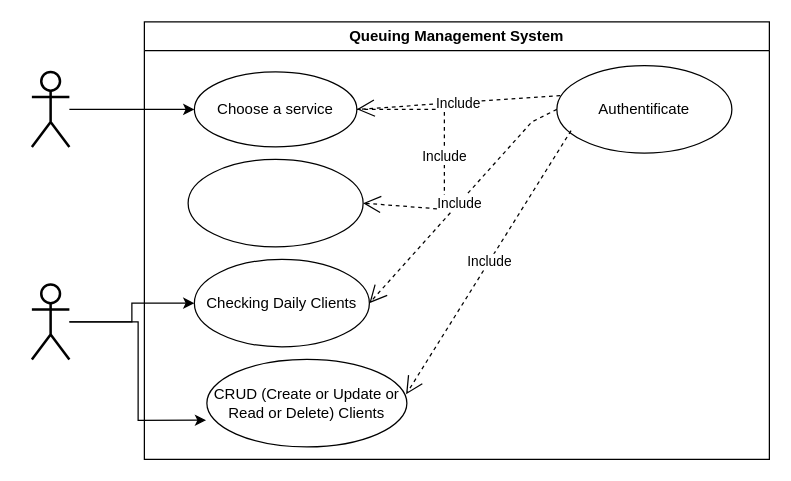
The diagram is 791 pixels wide and 481 high, and some of its shapes have lost their labels. Each missing label, with the box of its shape:
Book a place: (187, 158, 363, 247)
Client: (30, 70, 70, 148)
Service: (30, 282, 70, 360)
